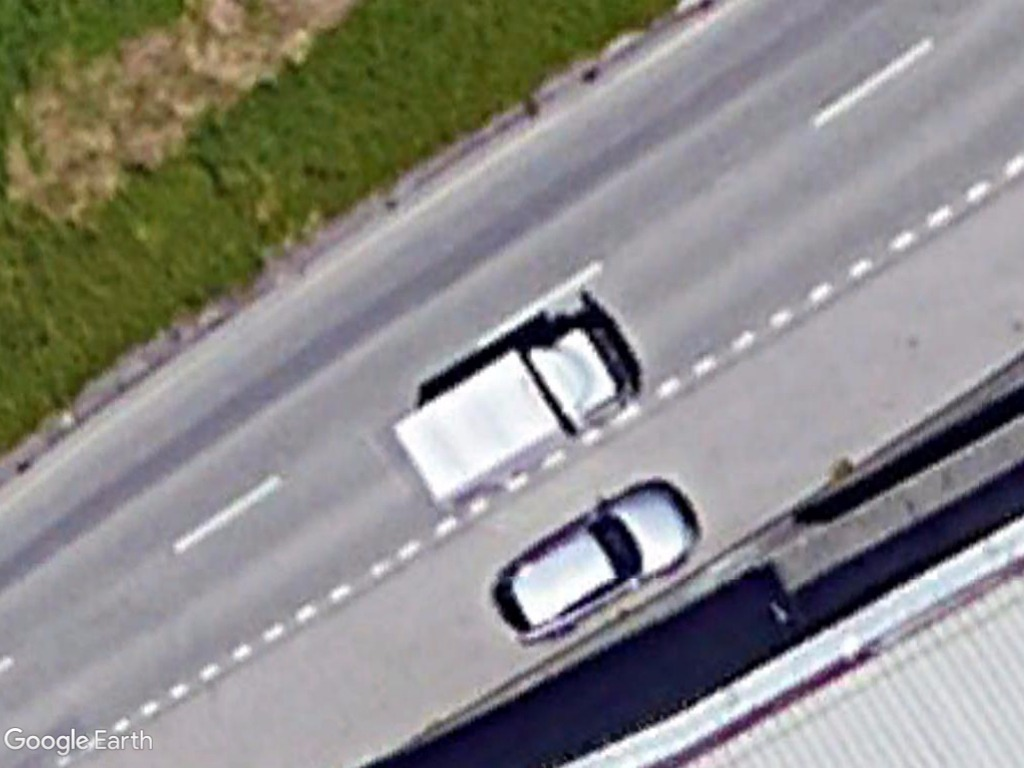car: (491, 485, 702, 646)
truck: (390, 318, 653, 514)
